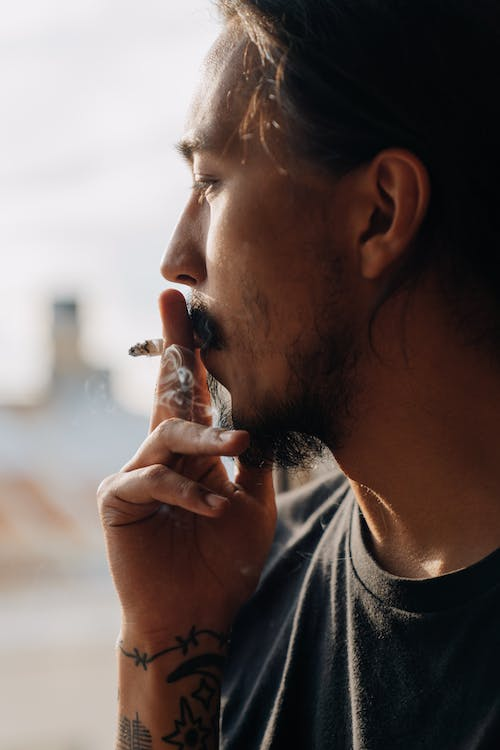cigarette: (123, 337, 167, 360)
